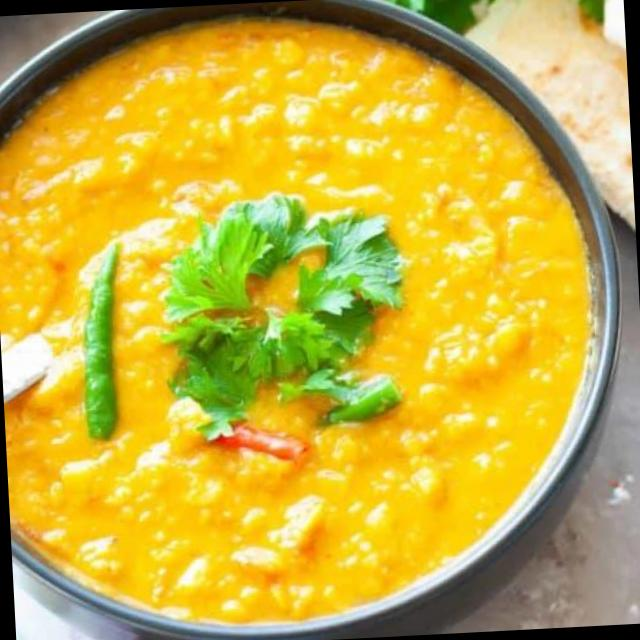dal: (0, 0, 623, 639)
